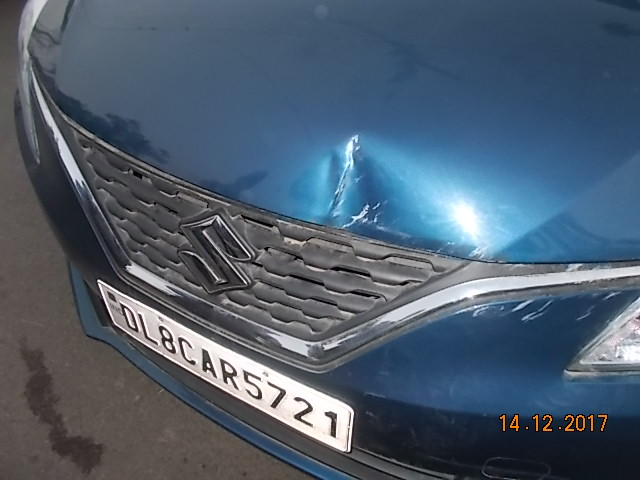Dent: (309, 137, 394, 225)
